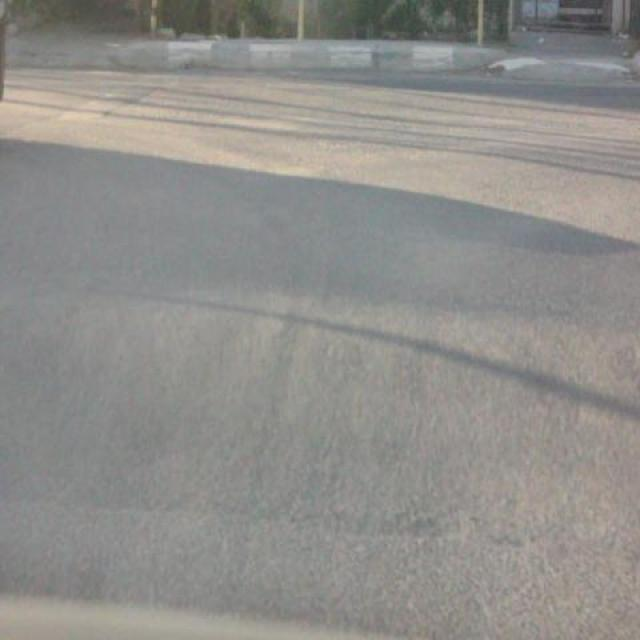Unmarked Bump: (0, 300, 640, 570)
